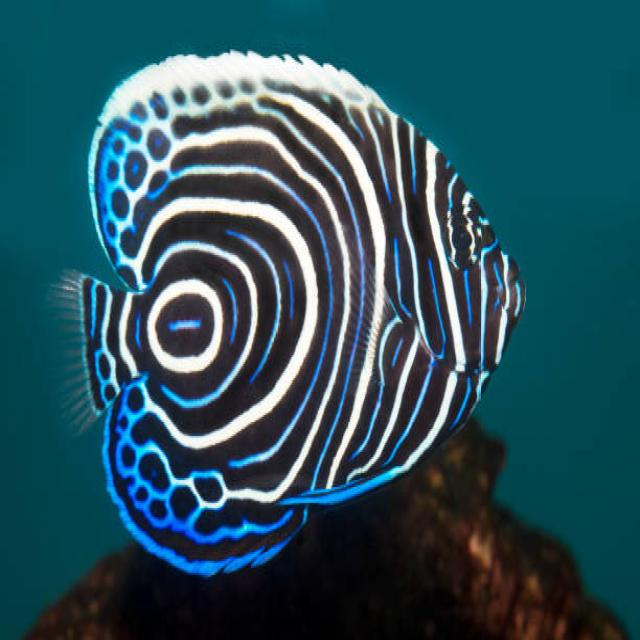AngelFish: (53, 45, 524, 590)
